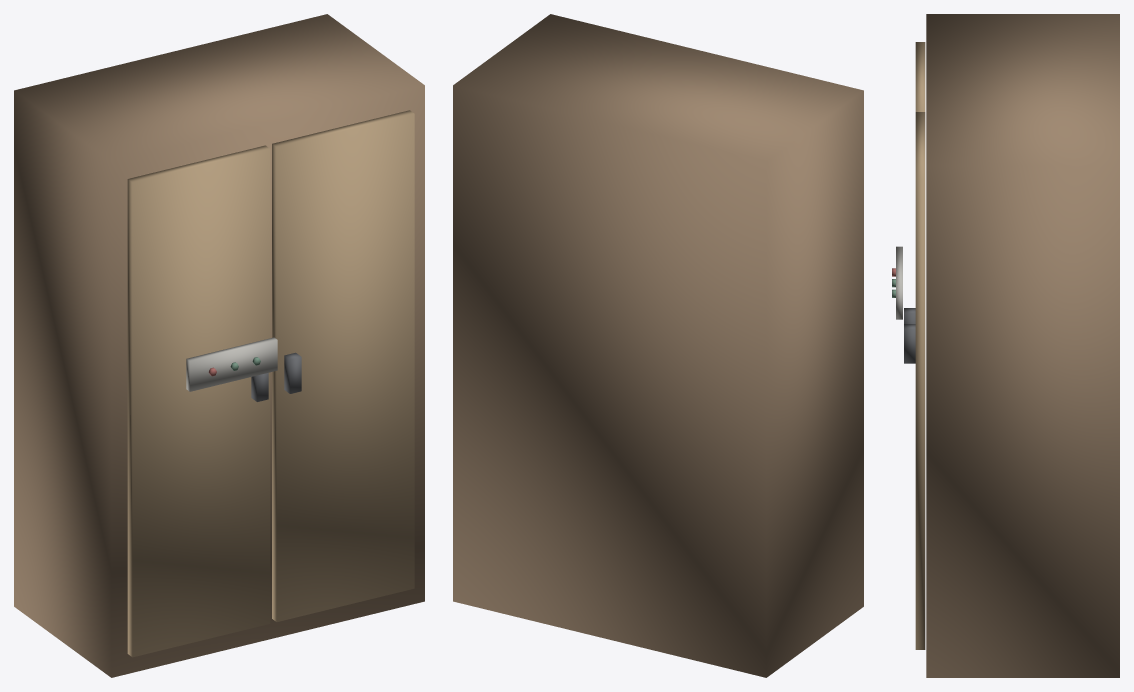
The model's file is lab_reagent_cabinet__compact.glb.
The picture shows the model from 3 angles, left to right: view 1: azimuth 30°, elevation 25°; view 2: azimuth 150°, elevation 25°; view 3: azimuth 270°, elevation 25°; orthographic projection.
Parts seen in each view (by area): view 1: world; view 2: world; view 3: world.
Part boxes in pixels (x1,y1,x2,y2): world: (14,14,424,677); world: (453,14,863,677); world: (892,14,1119,677).
Size of the model in its own units: 0.798 by 1.26 by 0.5061.
